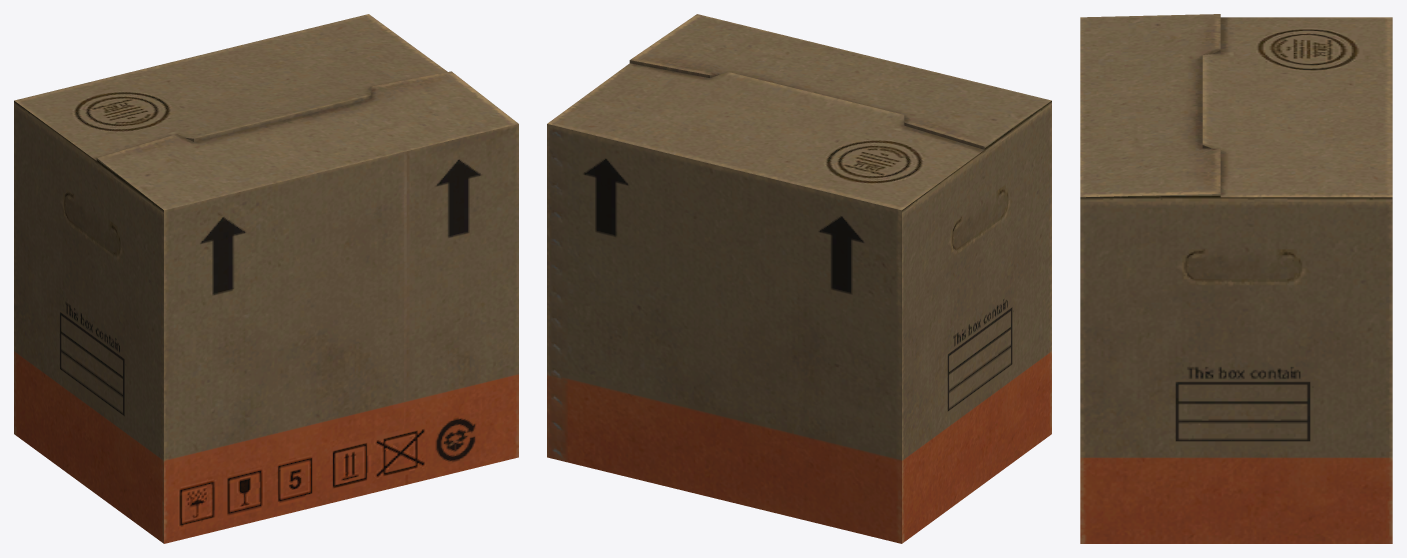
Rendered from cardboard_box.dae.
The picture shows the model from 3 angles, left to right: view 1: azimuth 30°, elevation 25°; view 2: azimuth 150°, elevation 25°; view 3: azimuth 270°, elevation 25°; orthographic projection. The views are drawn at different scales.
Visible parts, largest first — view 1: pCube13; view 2: pCube13; view 3: pCube13.
Boxes of the visible parts, box(x1,y1,x2,y2) form: pCube13: box(14, 14, 518, 543); pCube13: box(547, 14, 1051, 543); pCube13: box(1080, 14, 1392, 543).
Size of the model in its own units: 54.96 by 50.5 by 40.27.
